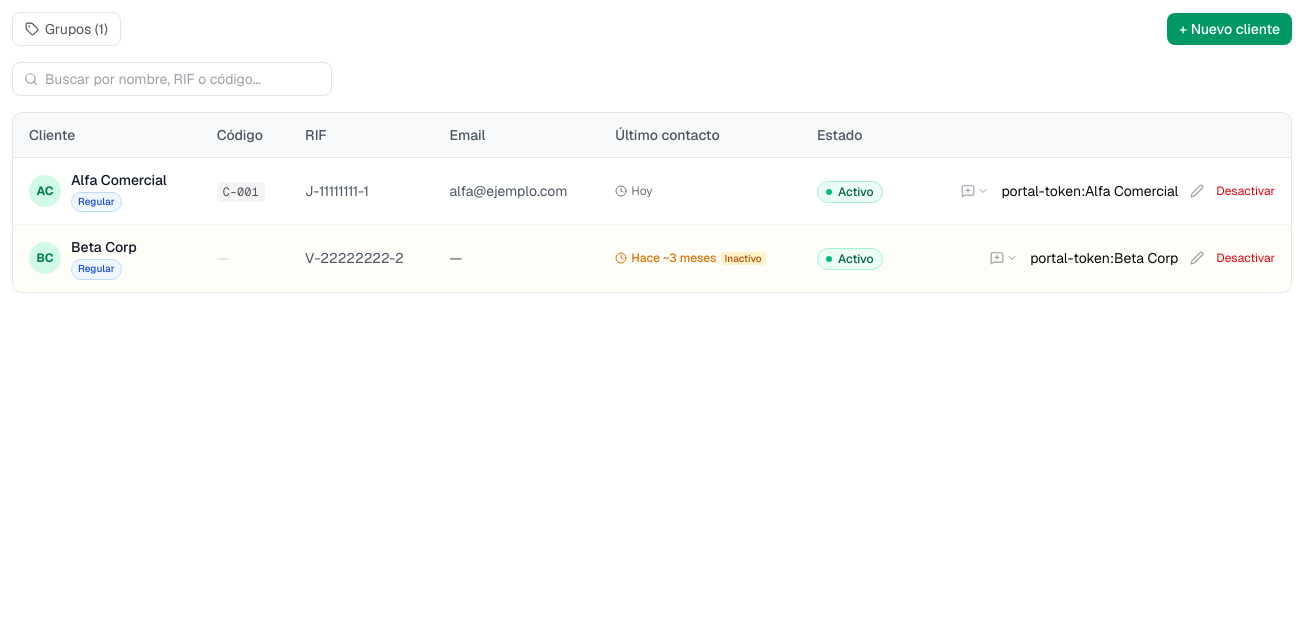
Scenario: CustomerList — smoke del refactor RHF (P2) › abre el form de crear al hacer click en '+ Nuevo cliente' y muestra los campos (sin checkbox C.E.)
Expected: the field with placeholder "Nombre *" is not shown
Click the button "+ Nuevo cliente".
click(1230, 29)  # box x1=1167 y1=13 x2=1292 y2=45
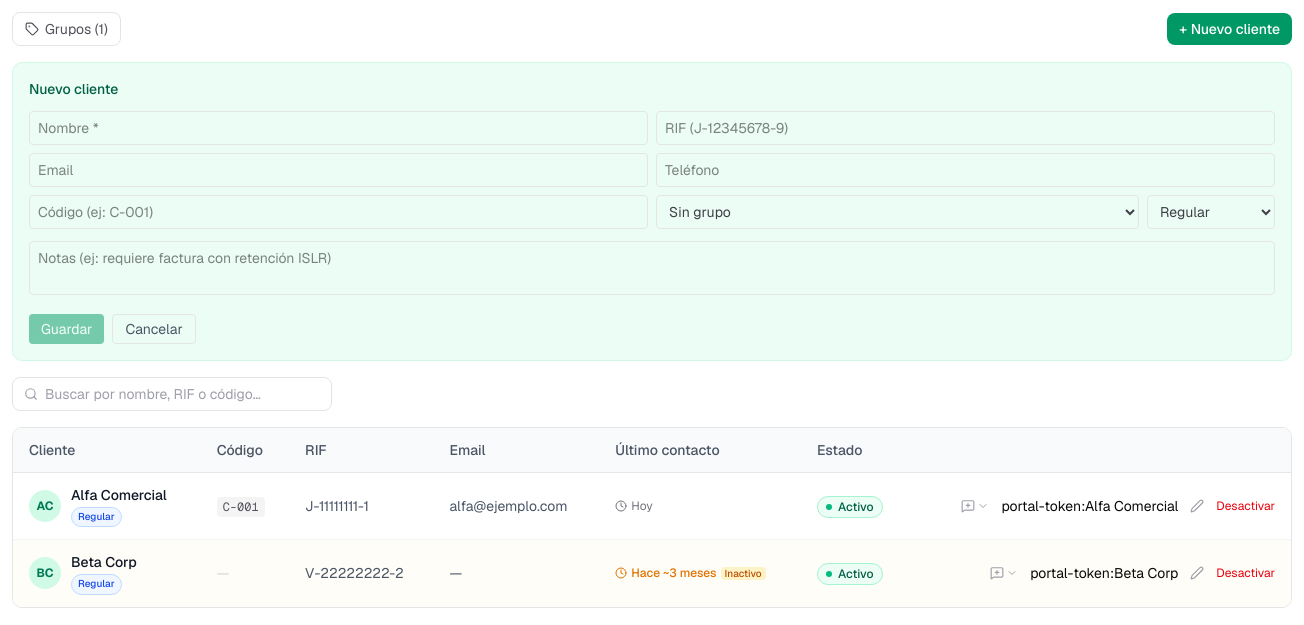
Expected: the text "Nuevo cliente" is shown, x1=29 y1=80 x2=118 y2=98
Expected: the field with placeholder "Nombre *" is shown, x1=29 y1=111 x2=648 y2=145
Expected: the field with placeholder "RIF (J-12345678-9)" is shown, x1=656 y1=111 x2=1275 y2=145
